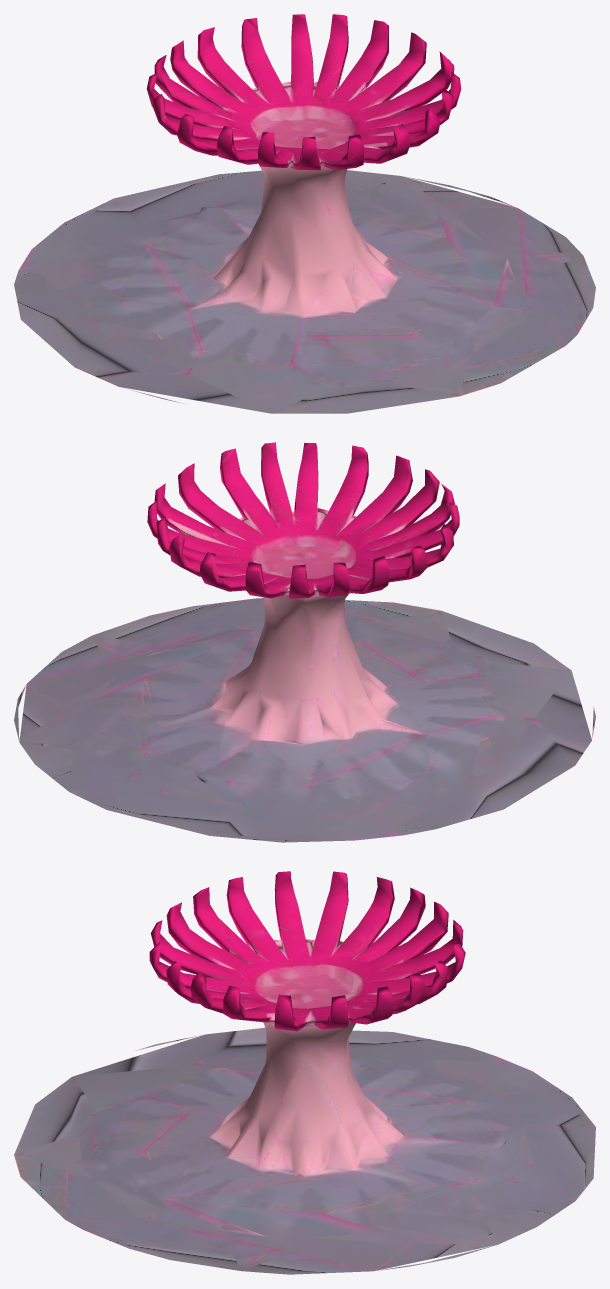
The picture shows the model from 3 angles, top to bottom: view 1: azimuth 30°, elevation 25°; view 2: azimuth 150°, elevation 25°; view 3: azimuth 270°, elevation 25°; orthographic projection.
Bounding box in the file's own units: 1.89 × 0.7966 × 1.88.
1 material, 1 textured.
